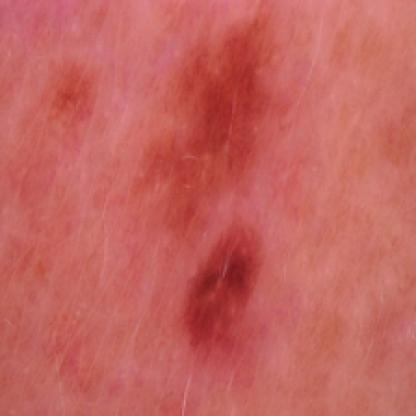benign: (48, 46, 310, 348)
